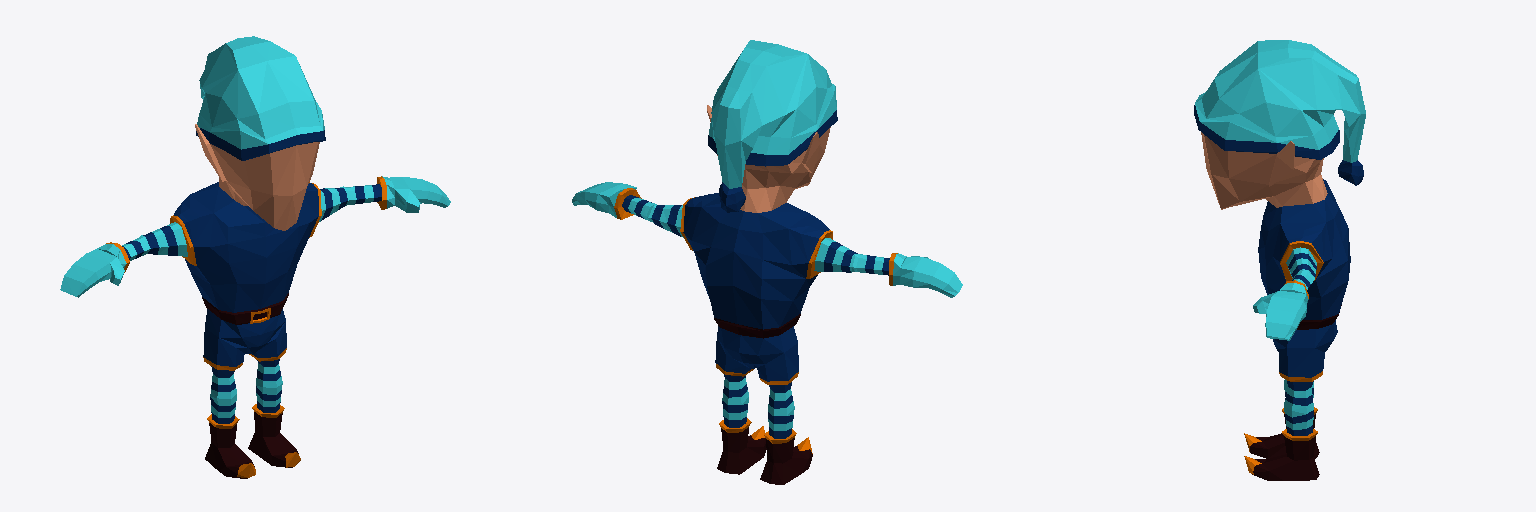
Rendered from char_ELF_8.obj.
3 renders of one model, left to right at view 1: azimuth 30°, elevation 25°; view 2: azimuth 150°, elevation 25°; view 3: azimuth 270°, elevation 25°, orthographic.
Parts seen in each view (by area): view 1: Cube; view 2: Cube; view 3: Cube.
Part boxes in pixels (left/top/right/bottom): Cube: left=60, top=36, right=450, bottom=478; Cube: left=572, top=40, right=962, bottom=484; Cube: left=1194, top=40, right=1365, bottom=480.
Bounding box in the file's own units: 2.88 × 2.96 × 1.11.